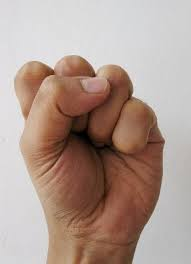closed: (12, 54, 166, 245)
